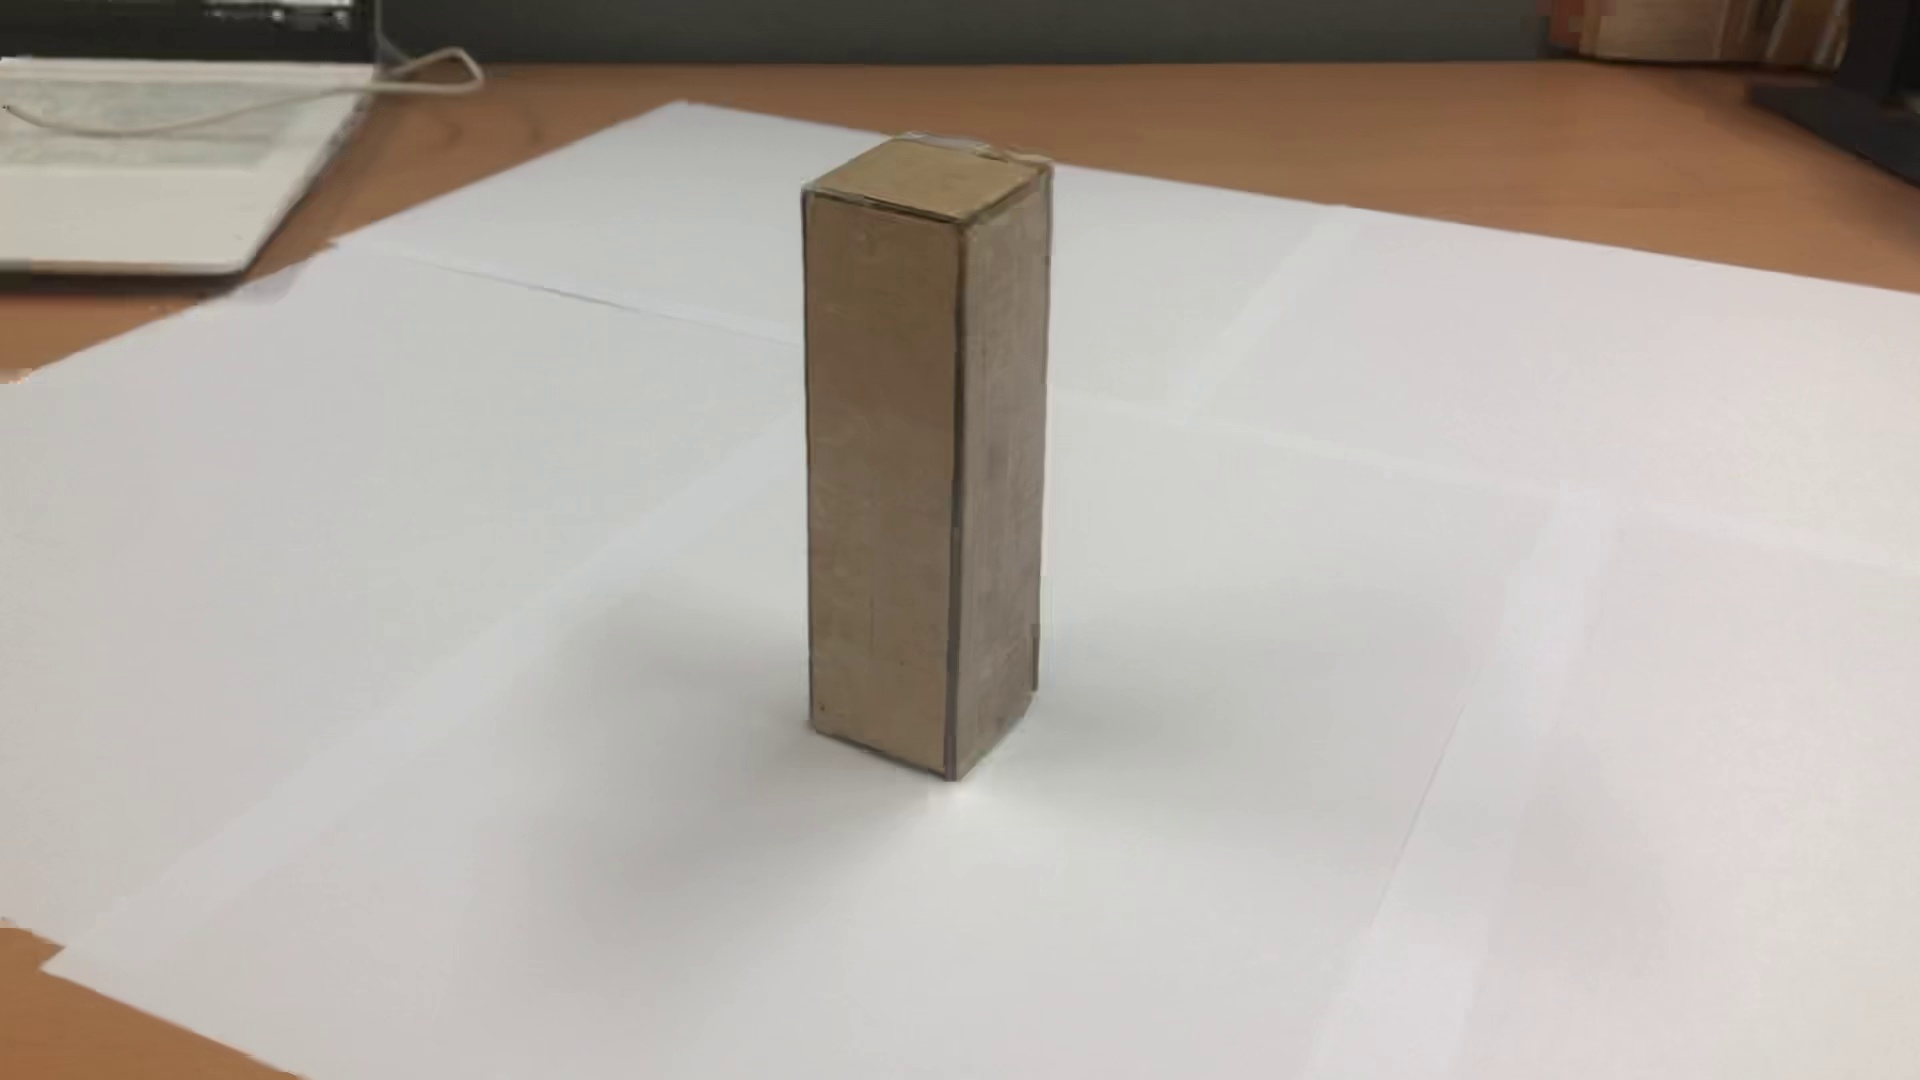box: (752, 102, 1109, 831)
